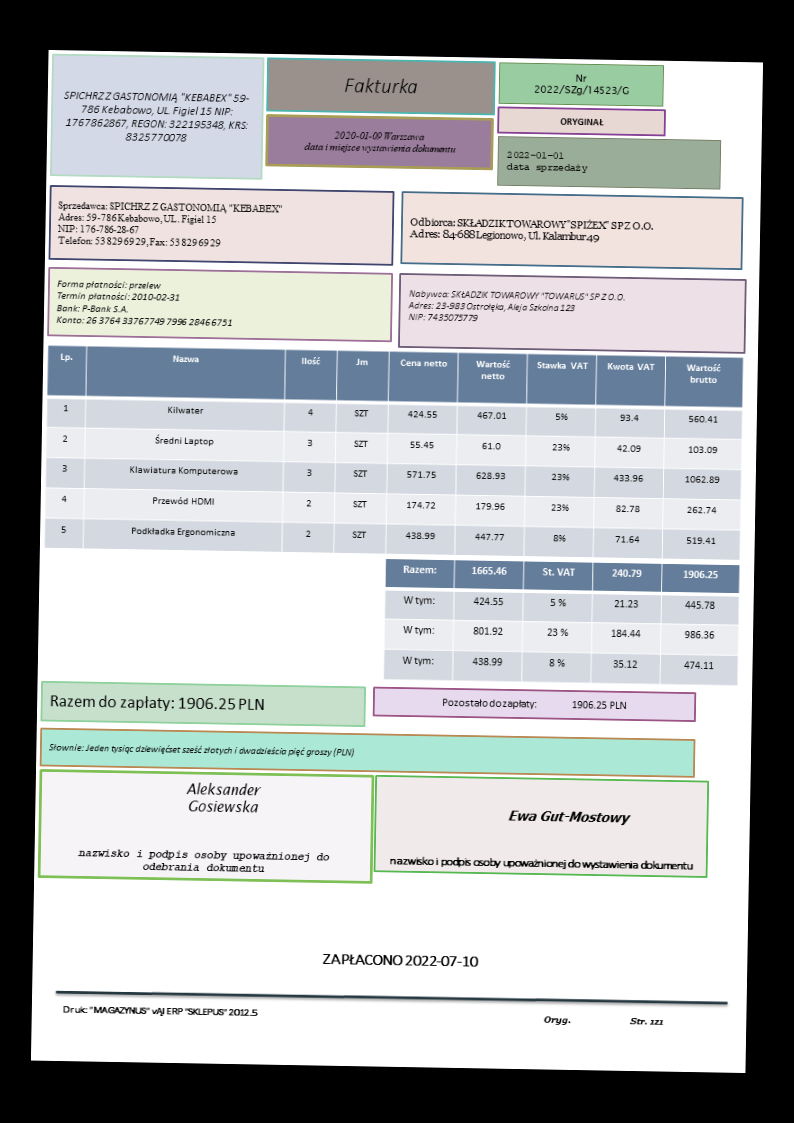Table: (43, 344, 744, 562), (382, 558, 740, 686)
TextBox: (55, 197, 285, 251), (58, 87, 251, 147), (53, 277, 235, 329), (405, 287, 627, 327), (76, 845, 330, 876), (405, 214, 654, 245), (386, 853, 694, 874), (47, 740, 356, 758), (48, 691, 266, 714), (302, 128, 458, 156), (319, 949, 480, 971), (59, 1003, 260, 1020), (440, 695, 627, 712), (506, 806, 633, 829), (184, 780, 265, 816), (531, 70, 631, 98), (505, 148, 590, 176), (540, 1013, 666, 1028), (341, 76, 419, 98), (557, 115, 606, 127)
